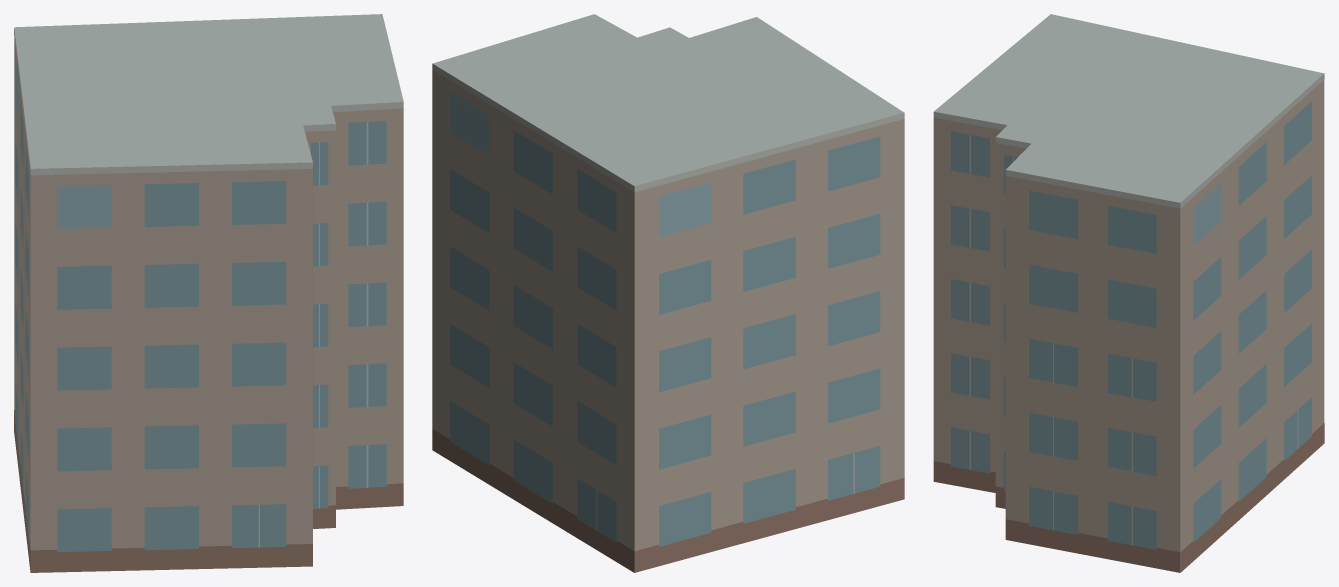
The model's file is survey-upis-32881813.glb.
3 renders of one model, left to right at view 1: azimuth 30°, elevation 25°; view 2: azimuth 150°, elevation 25°; view 3: azimuth 270°, elevation 25°, orthographic. The views are drawn at different scales.
Visible parts, largest first — view 1: survey-upis-32881813.tmp; view 2: survey-upis-32881813.tmp; view 3: survey-upis-32881813.tmp.
Part boxes in pixels (x1,y1,x2,y2): survey-upis-32881813.tmp: (14, 14, 403, 572); survey-upis-32881813.tmp: (432, 14, 904, 572); survey-upis-32881813.tmp: (933, 14, 1324, 572).
Size of the model in its own units: 16.76 by 15.3 by 14.65.
